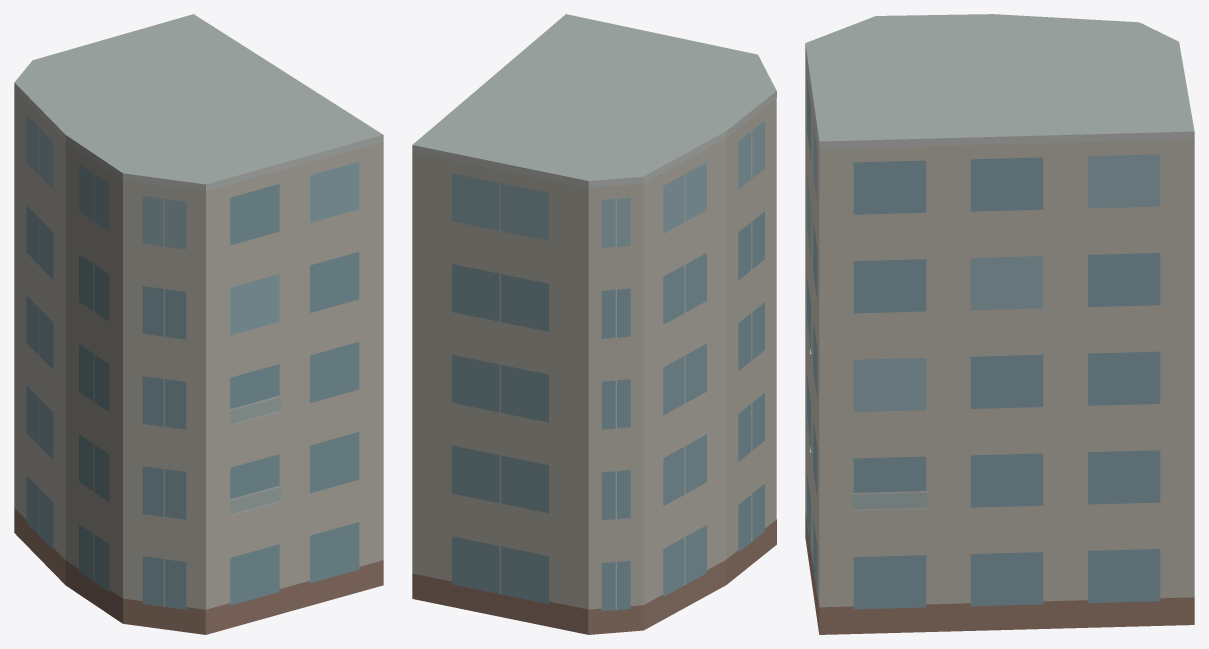
File: survey-upis-32698404.glb
3 views of the same model, side by side, from view 1: azimuth 30°, elevation 25°; view 2: azimuth 150°, elevation 25°; view 3: azimuth 270°, elevation 25° (orthographic). The views are drawn at different scales.
Visible parts, largest first — view 1: survey-upis-32698404.tmp; view 2: survey-upis-32698404.tmp; view 3: survey-upis-32698404.tmp.
Part boxes in pixels (bbox=[...]): survey-upis-32698404.tmp: bbox=[14, 14, 383, 634]; survey-upis-32698404.tmp: bbox=[412, 14, 776, 634]; survey-upis-32698404.tmp: bbox=[805, 14, 1194, 634].
Size of the model in its own units: 8.82 by 15.9 by 11.38.
